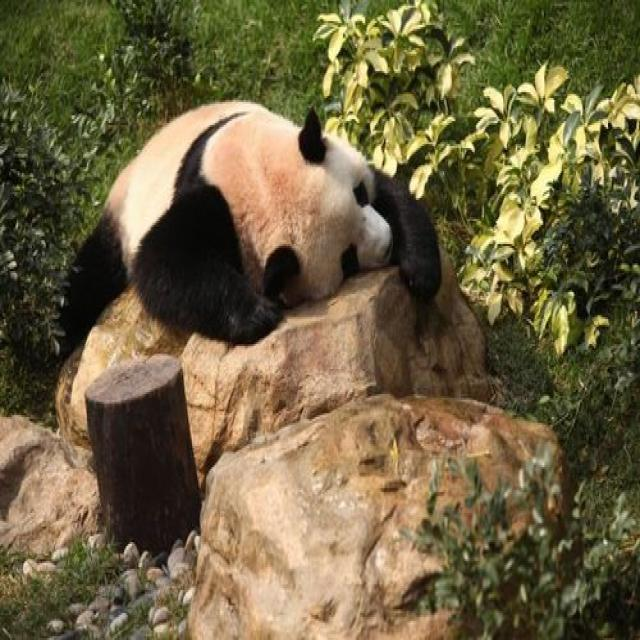panda: (54, 82, 452, 434)
